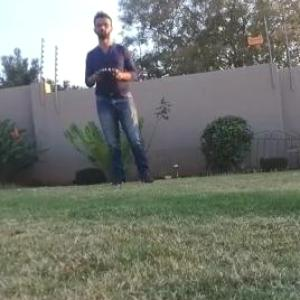follow: (81, 7, 161, 190)
